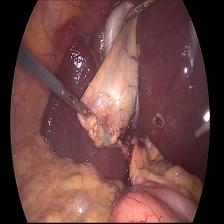Grasper: (57, 79, 95, 123), (119, 0, 159, 30)
